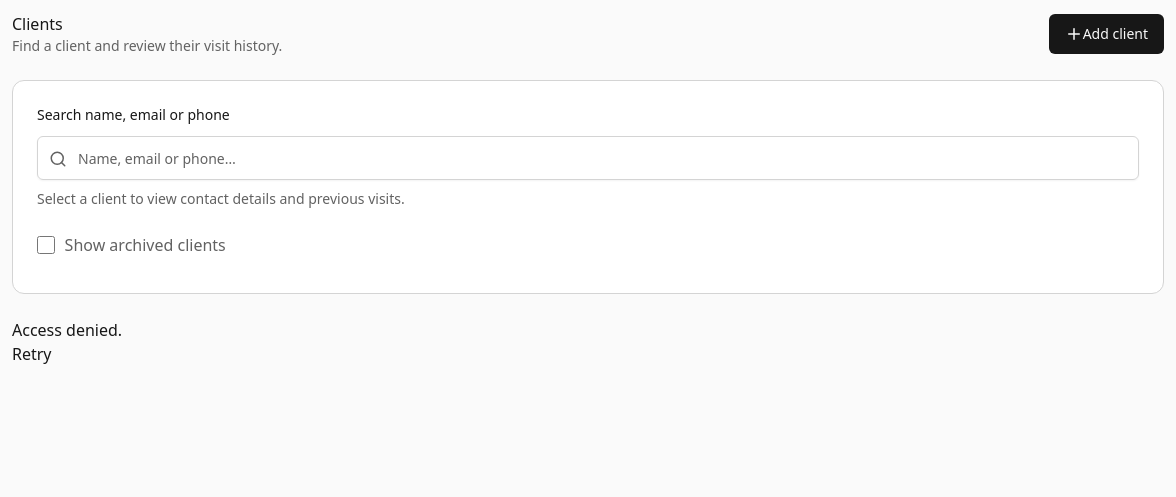
Test: list failure and retry
Expected: the text "Access denied." is shown, [12,319,122,341]
Click the button "Retry": (32, 354) [12,342,52,366]
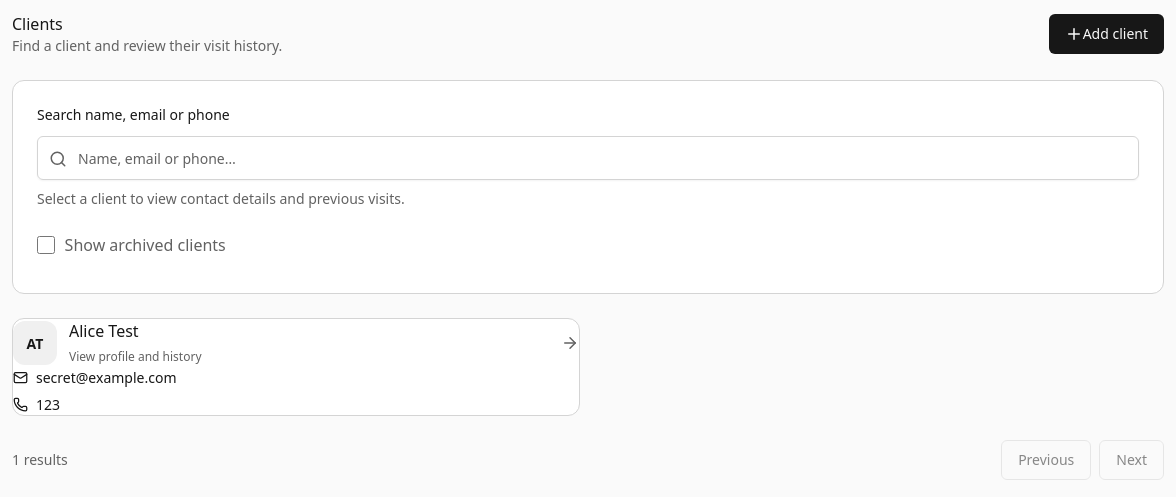
Expected: the heading "Alice Test" is shown, [69,320,139,342]
